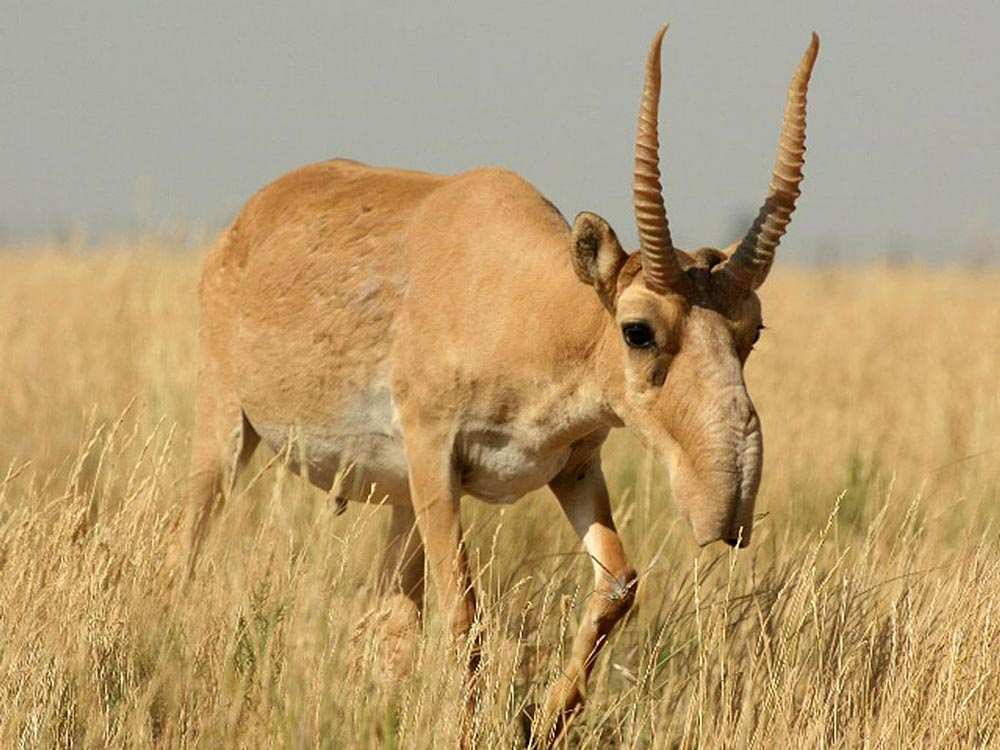saiga: (167, 23, 824, 750)
